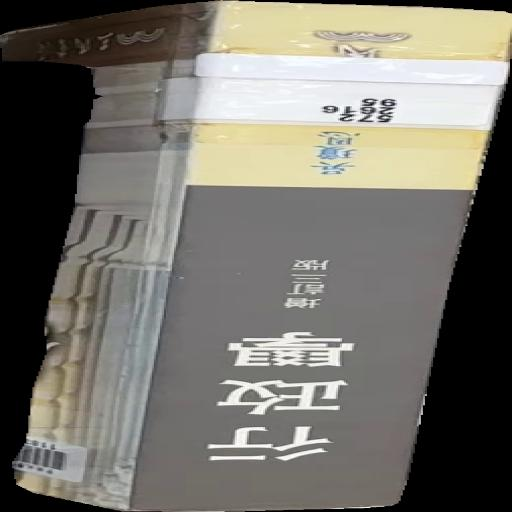reverse: (1, 1, 512, 512)
